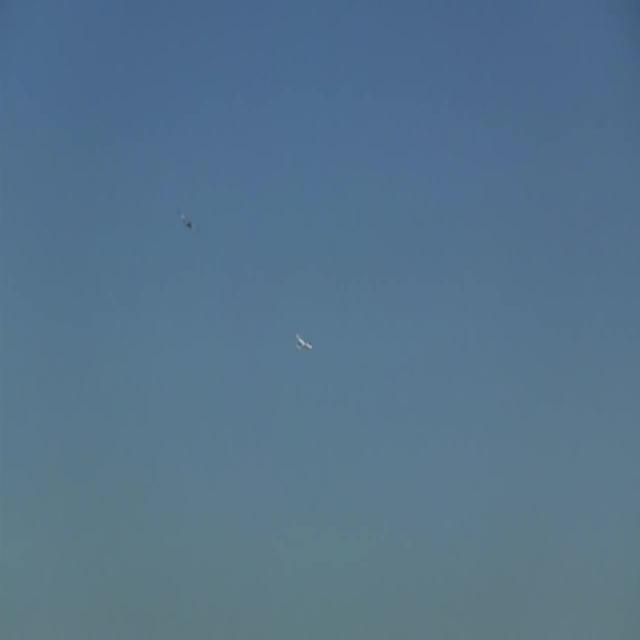iha: (178, 211, 194, 233), (295, 333, 312, 352)
